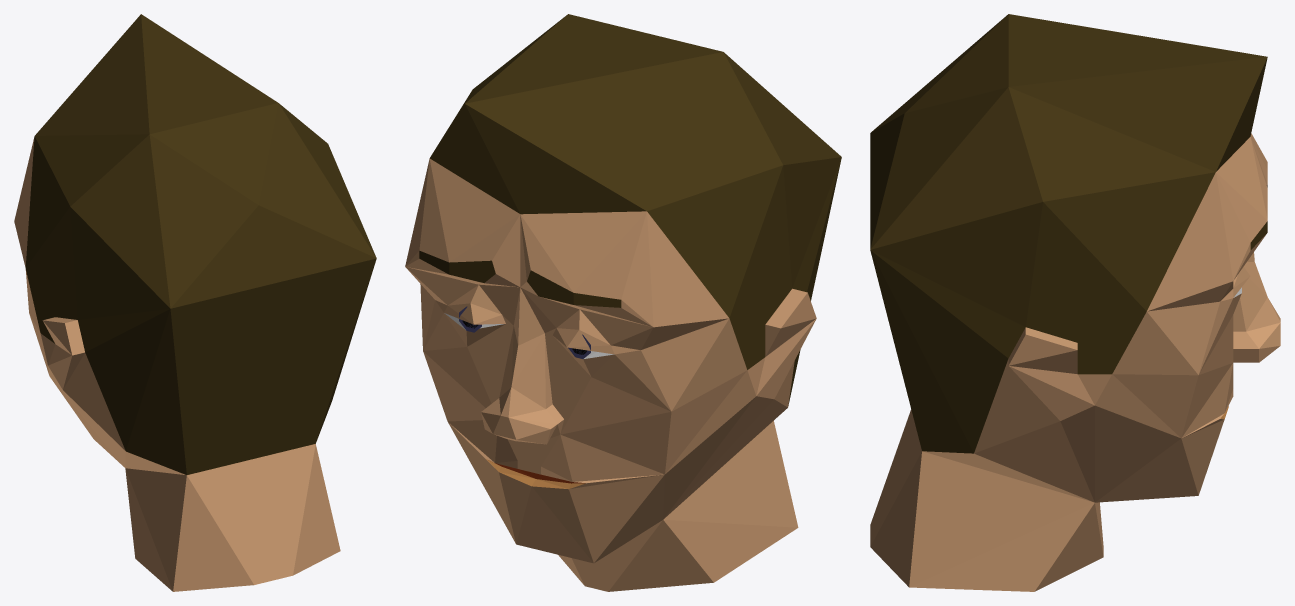
The model's file is npc_chat_trobert_0.obj.
The picture shows the model from 3 angles, left to right: view 1: azimuth 30°, elevation 25°; view 2: azimuth 150°, elevation 25°; view 3: azimuth 270°, elevation 25°; orthographic projection. The views are drawn at different scales.
Bounding box in the file's own units: 0.6875 × 1.03 × 0.7422.
